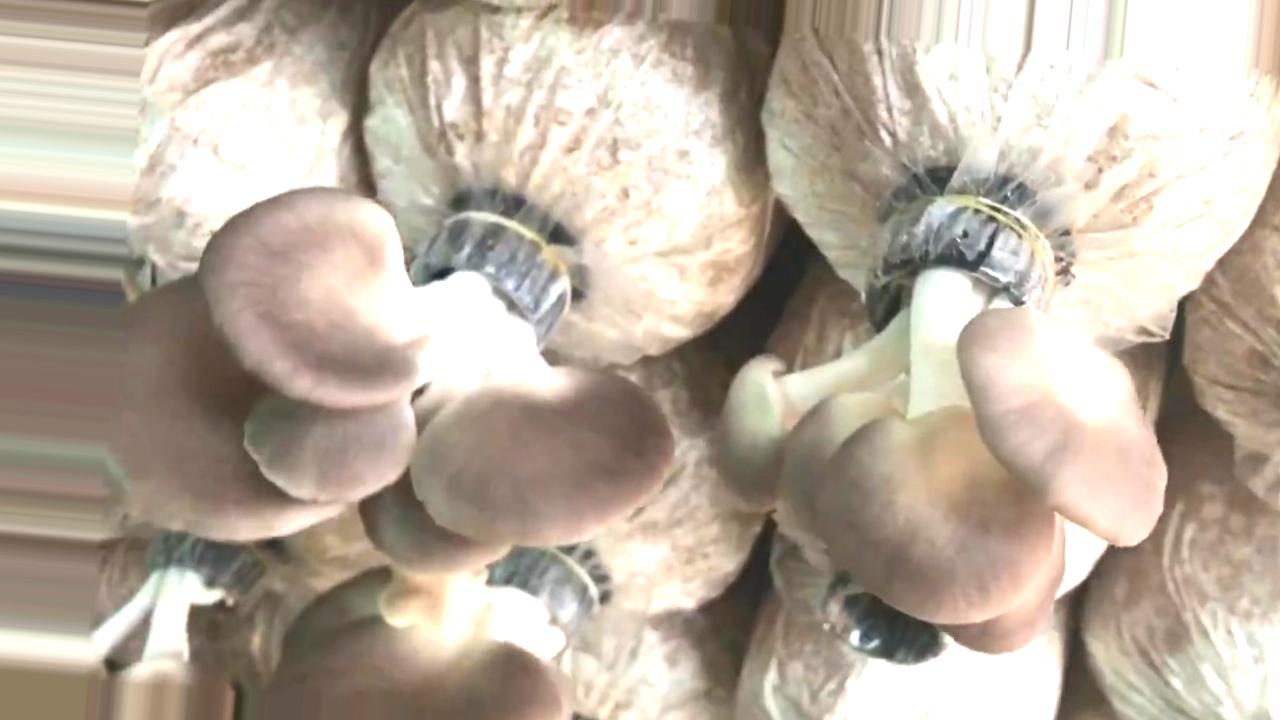nam: (110, 191, 674, 573), (716, 200, 1168, 652), (259, 558, 600, 719), (1, 545, 231, 720)
